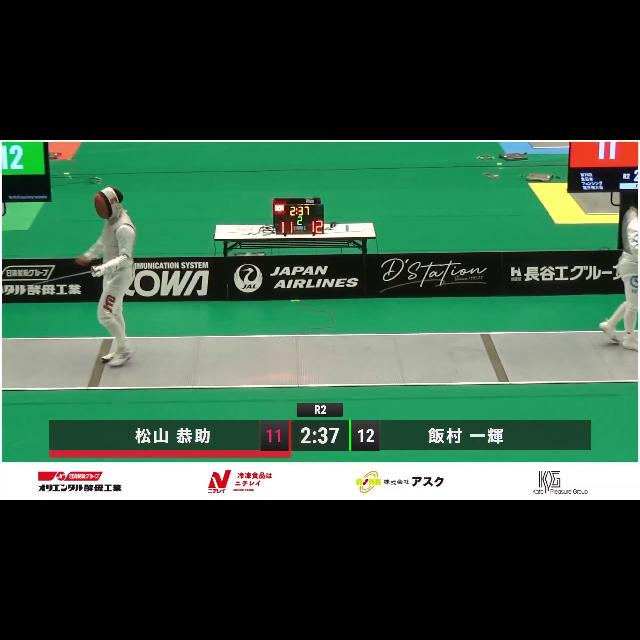blade: (3, 264, 102, 298)
